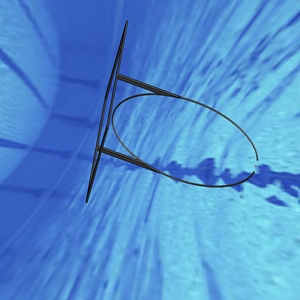circle: (75, 18, 261, 202)
